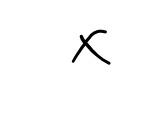mult: (72, 30, 111, 65)
